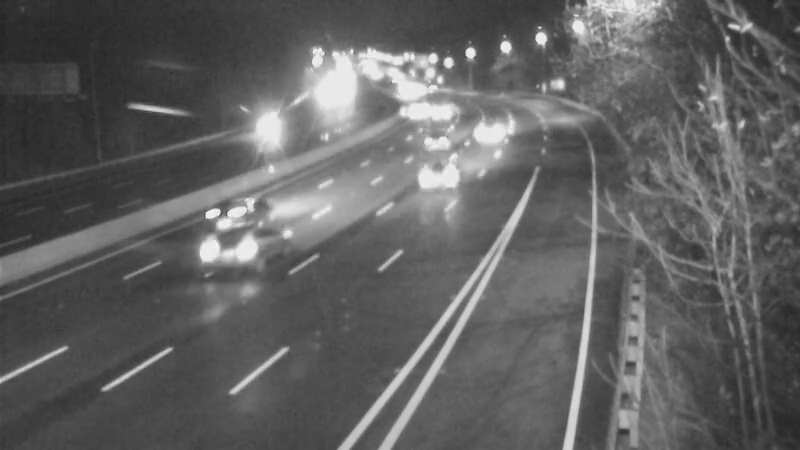vehicle: (412, 129, 492, 209), (176, 175, 256, 255), (185, 211, 265, 291), (416, 87, 466, 137), (386, 81, 436, 131), (412, 115, 462, 165), (469, 99, 519, 149), (233, 102, 283, 152)
